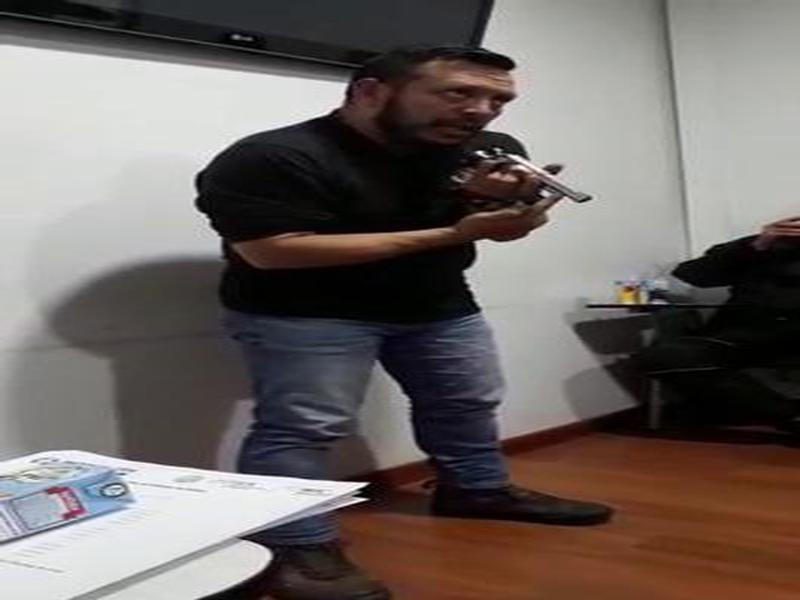Revolver: (431, 135, 609, 248)
